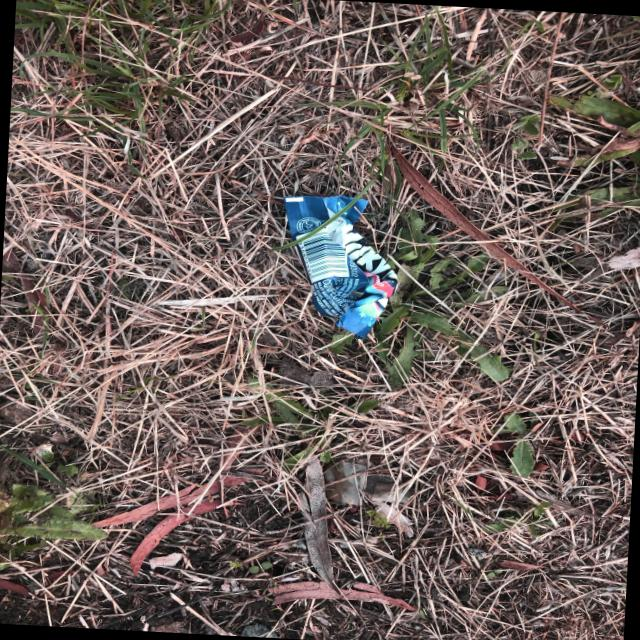less trash: (284, 196, 397, 337)
